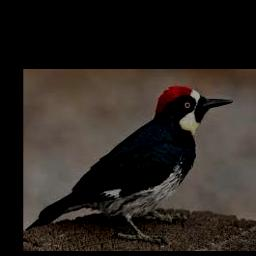Woodpecker: (26, 85, 234, 242)
